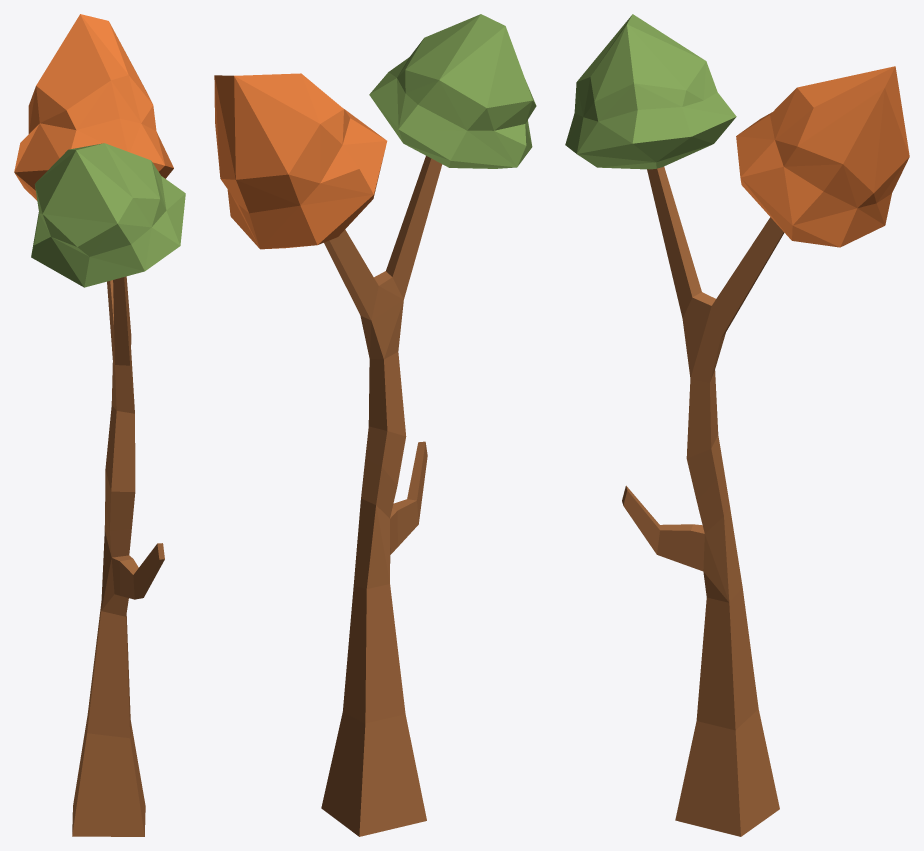
Rendered from Tree_11.fbx.
3 views of the same model, side by side, from view 1: azimuth 30°, elevation 25°; view 2: azimuth 150°, elevation 25°; view 3: azimuth 270°, elevation 25° (orthographic). The views are drawn at different scales.
Visible parts, largest first — view 1: M_Tree 11; view 2: M_Tree 11; view 3: M_Tree 11.
Part boxes in pixels (x1,y1,x2,y2): M_Tree 11: [14, 14, 185, 836]; M_Tree 11: [214, 14, 536, 836]; M_Tree 11: [565, 14, 909, 836].
Size of the model in its own units: 58.57 by 201 by 81.14.
Materials: 1 (1 with a texture image).
